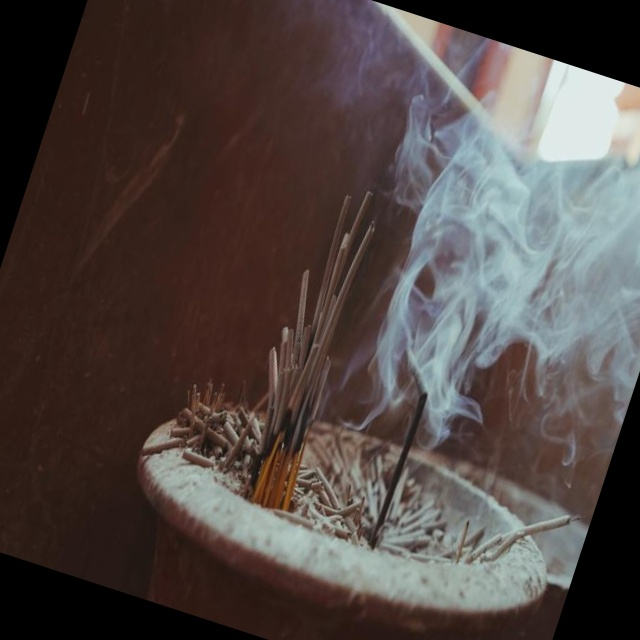smoke: (306, 21, 640, 471)
